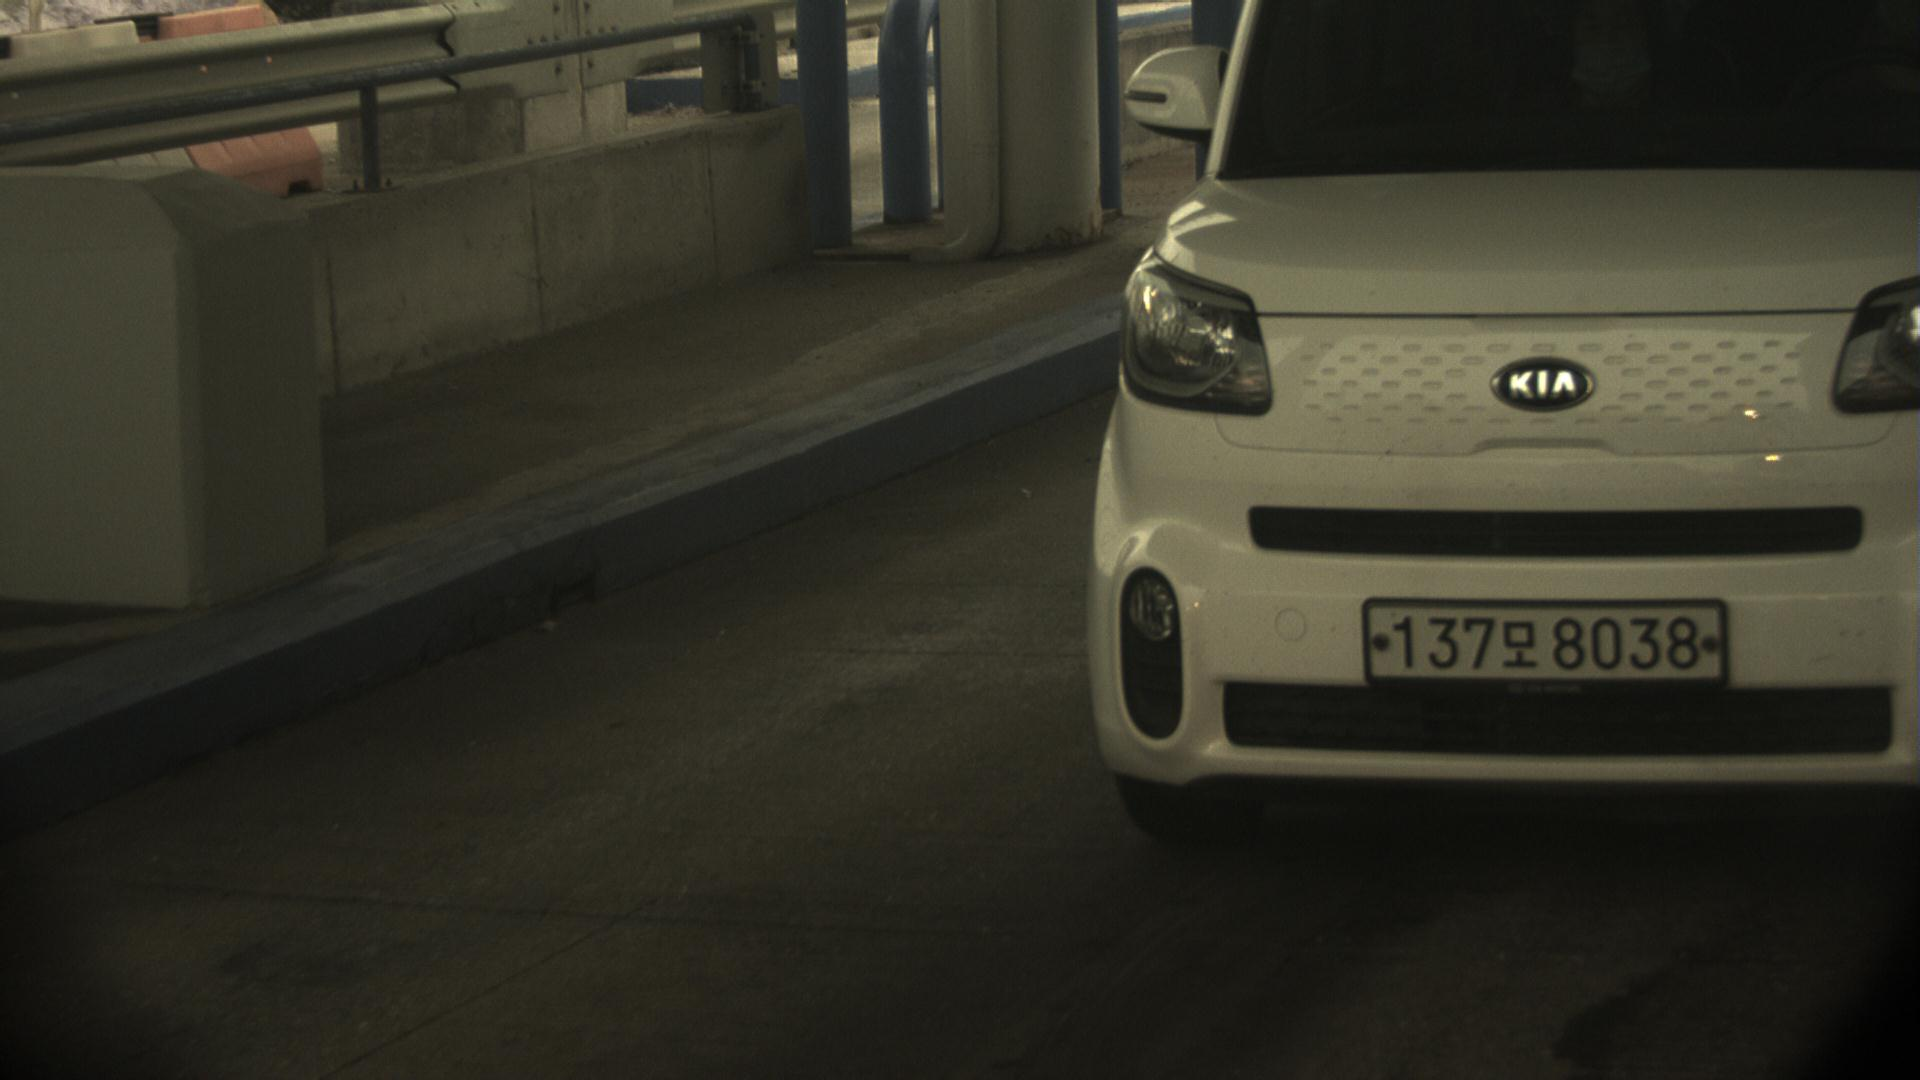car: (1088, 1, 1920, 845)
plate: (1359, 597, 1732, 688)
